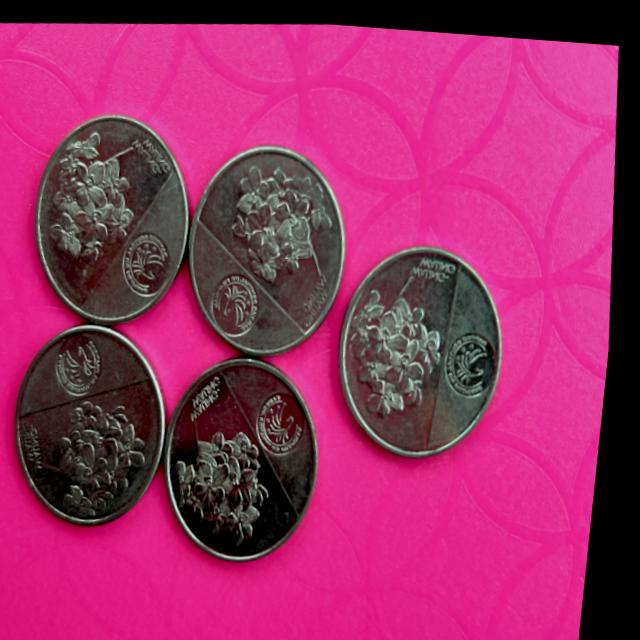1_New_Back: (329, 250, 462, 443), (175, 411, 294, 554), (230, 156, 346, 296), (50, 126, 157, 276), (50, 388, 162, 511)
